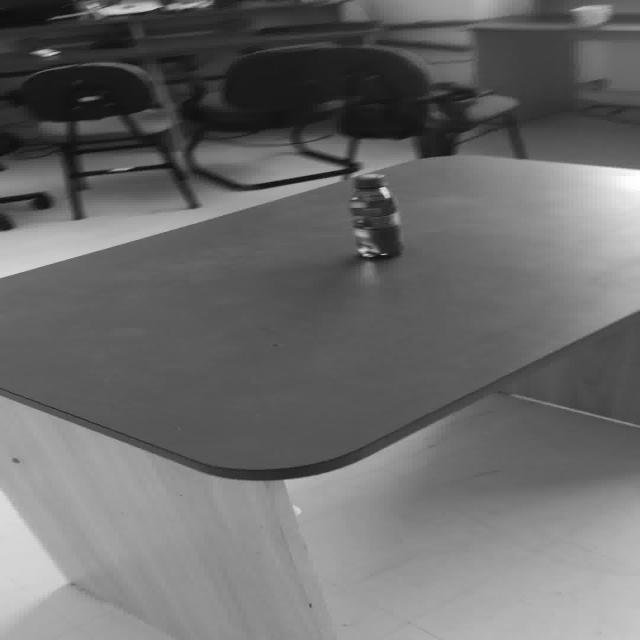guarana: (347, 172, 401, 258)
